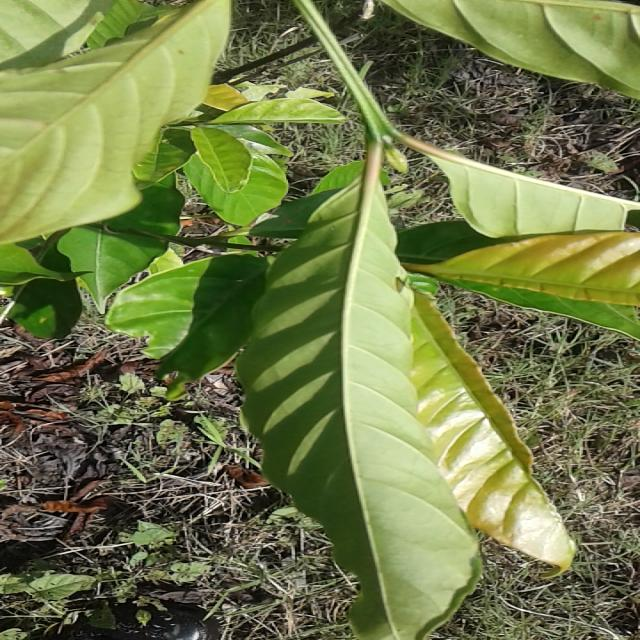Sanas: (231, 0, 579, 640)
